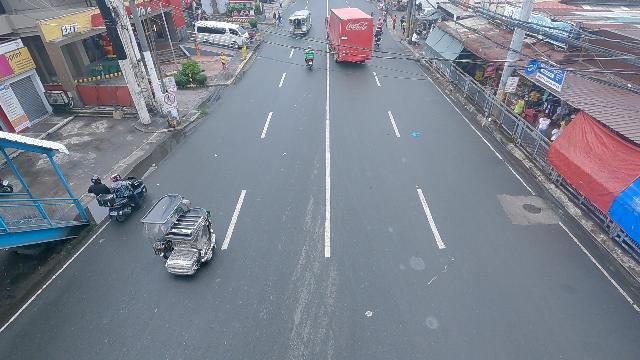jeepney: (287, 8, 313, 38)
motorcycle: (100, 175, 150, 224), (302, 46, 318, 73), (373, 29, 381, 48), (377, 16, 384, 34)
truck: (324, 8, 373, 67)
